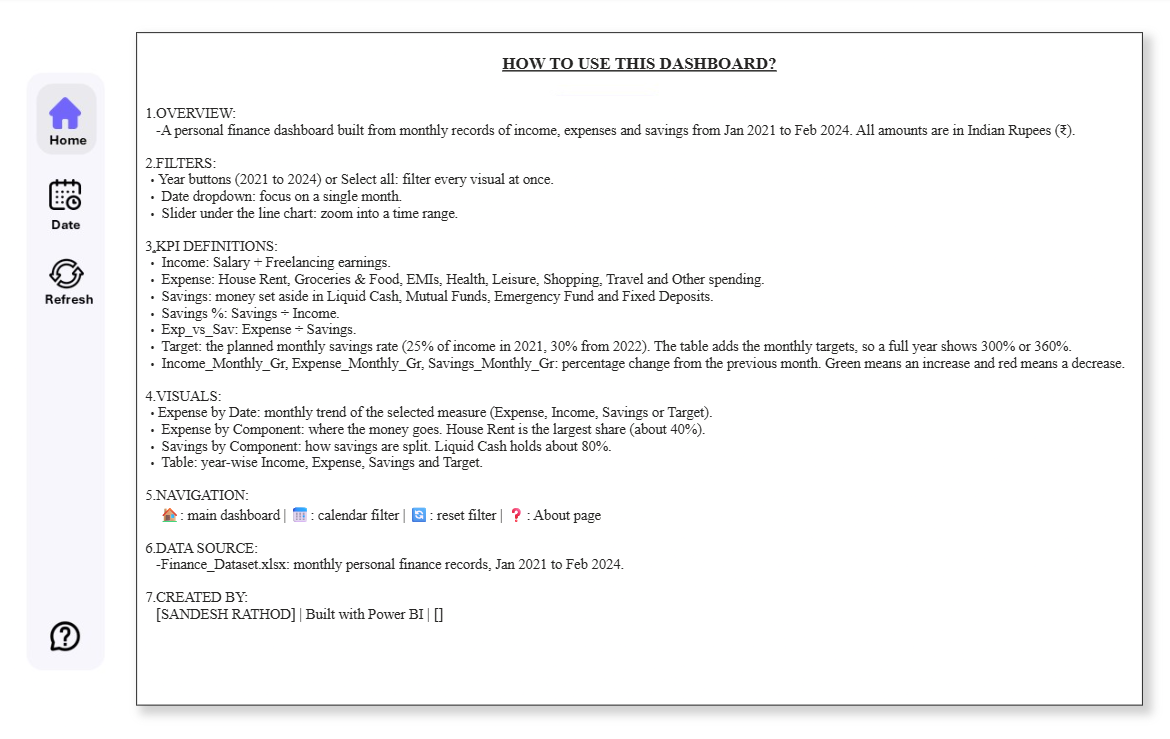

Layout of this report page (visuals, bound fields, positions):
{"tool":"powerbi","page":{"name":"About","canvas":[1300,820],"ordinal":1},"visuals":[{"type":"shape","box":[188.3,110,1073.3,610],"z":0},{"type":"actionButton","box":[45,145,63.3,55],"z":1000},{"type":"actionButton","box":[45,230,63.3,66.7],"z":3000},{"type":"textbox","box":[155,40,1106.7,740],"z":4000},{"type":"actionButton","box":[45,683.3,63.3,51.7],"z":5000}]}

Visuals, with their boxes on the page's 1300x820 design canvas (x1, y1, x2, y2). These are canvas units, not pixel positions in the 1170x739 screenshot, which may show the page scaled, cropped or inside an application window:
shape: [x1=188, y1=110, x2=1262, y2=720]
actionButton: [x1=45, y1=145, x2=108, y2=200]
actionButton: [x1=45, y1=230, x2=108, y2=297]
textbox: [x1=155, y1=40, x2=1262, y2=780]
actionButton: [x1=45, y1=683, x2=108, y2=735]
